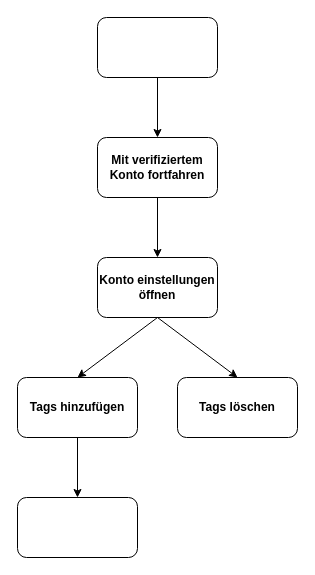
This 315x575 diagram has some shape labels left out. The centre of each missing label's shape, as x and y in pixels:
"Beweisdokument hinzufügen" goes at point (77, 527).
"Webseite öffnen" goes at point (157, 47).
